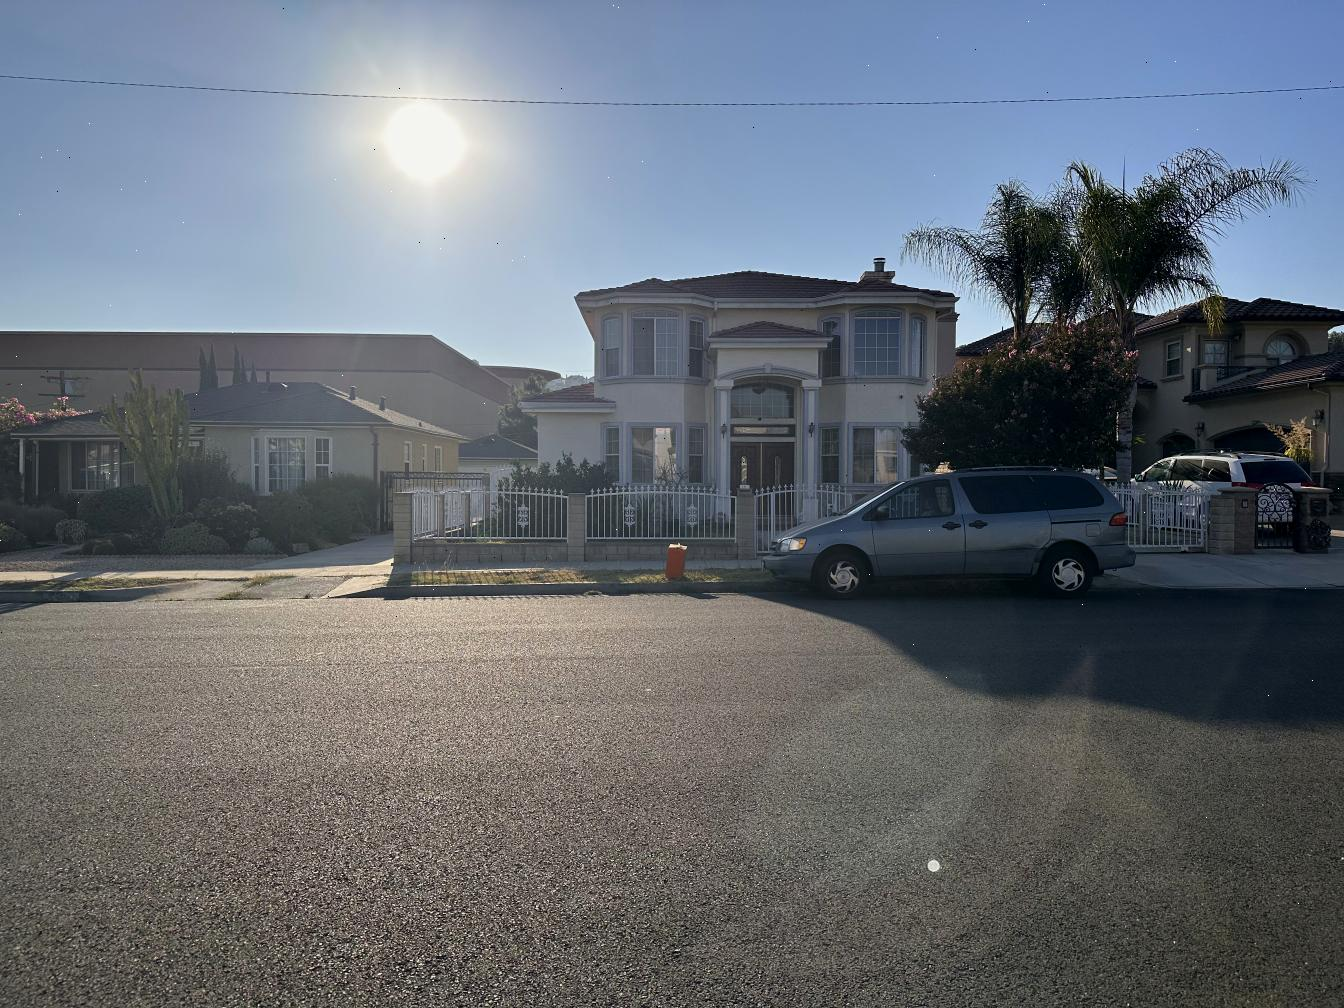curbs-laRr: (387, 582, 604, 597), (609, 579, 780, 596), (2, 588, 116, 603)
orange box: (667, 543, 687, 579)
